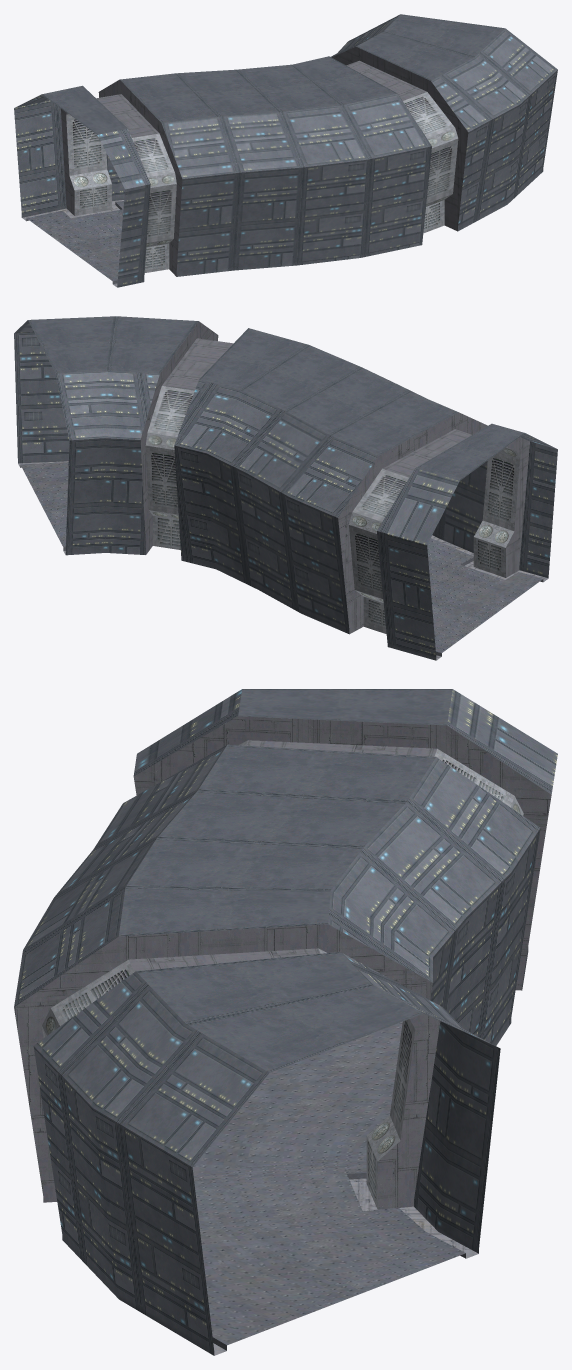
File: mun_tato_starport_s01_u01_r5_foyer5_mesh_r5.fbx
The picture shows the model from 3 angles, top to bottom: view 1: azimuth 30°, elevation 25°; view 2: azimuth 150°, elevation 25°; view 3: azimuth 270°, elevation 25°; orthographic projection. The views are drawn at different scales.
Parts seen in each view (by area): view 1: mesh_node; view 2: mesh_node; view 3: mesh_node.
Boxes of the visible parts, x1,y1,x2,y2 form: mesh_node: (14, 14, 557, 287); mesh_node: (14, 316, 557, 660); mesh_node: (14, 689, 557, 1355).
Bounding box in the file's own units: 15.58 × 4.6 × 8.66.
